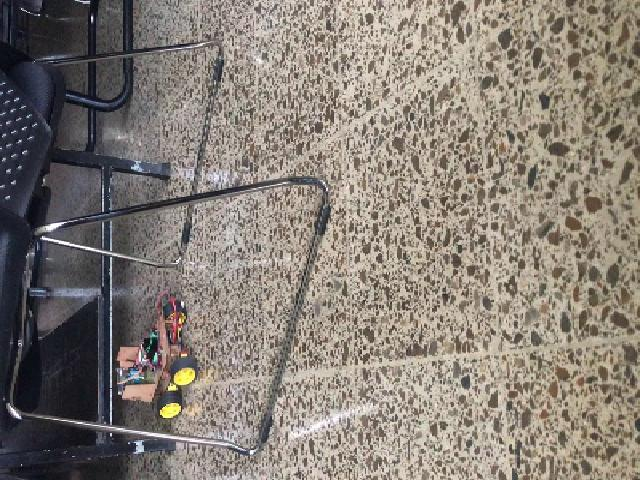Robot: (115, 301, 197, 418)
